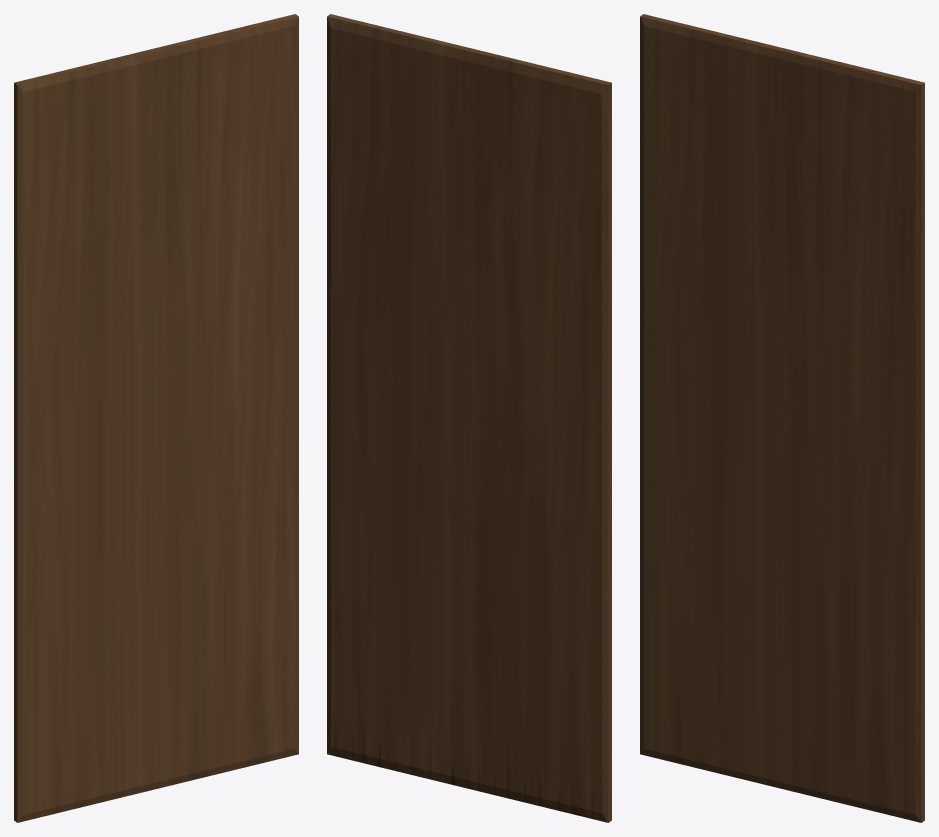
Rendered from Wall_Plywood.fbx.
The picture shows the model from 3 angles, left to right: view 1: azimuth 30°, elevation 25°; view 2: azimuth 150°, elevation 25°; view 3: azimuth 330°, elevation 25°; orthographic projection.
Parts seen in each view (by area): view 1: Plywood37; view 2: Plywood37; view 3: Plywood37.
Boxes of the visible parts, x1,y1,x2,y2 form: Plywood37: (14,14,298,822); Plywood37: (327,14,611,822); Plywood37: (640,14,924,822).
Size of the model in its own units: 100 by 250 by 3.4.
